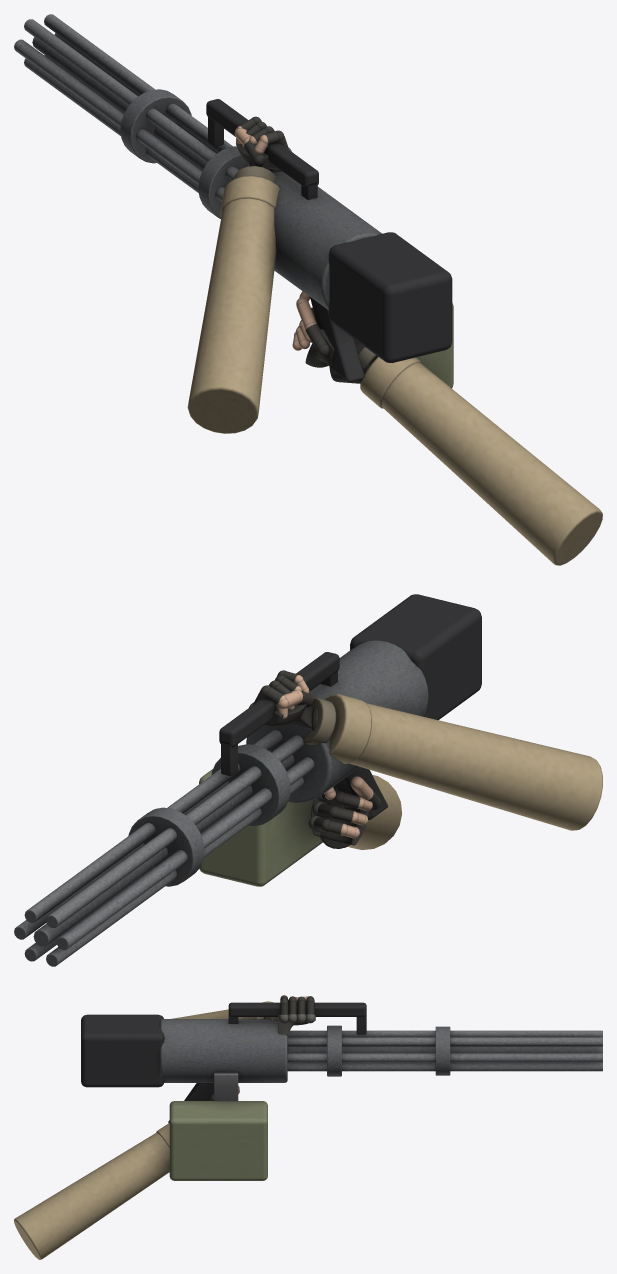
File: minigun.glb
3 views of the same model, one above another, from view 1: azimuth 30°, elevation 25°; view 2: azimuth 150°, elevation 25°; view 3: azimuth 270°, elevation 25° (orthographic). The views are drawn at different scales.
Parts seen in each view (by area): view 1: hænder, minigun, roterer; view 2: hænder, minigun, roterer; view 3: minigun, roterer, hænder.
Part boxes in pixels (x1,y1,x2,y2): hænder: (187,116,602,565); minigun: (206,99,453,388); roterer: (14,14,249,218); hænder: (249,670,602,849); minigun: (199,594,481,886); roterer: (14,730,314,966); minigun: (81,1002,366,1180); roterer: (287,1025,602,1076); hænder: (14,995,315,1259).
Bounding box in the file's own units: 0.5352 × 0.5005 × 1.2.
Materials: 2 (2 with a texture image).
